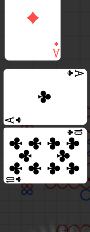10C: (6, 175, 23, 183)
AC: (5, 115, 23, 124)
AD: (52, 40, 61, 58)
